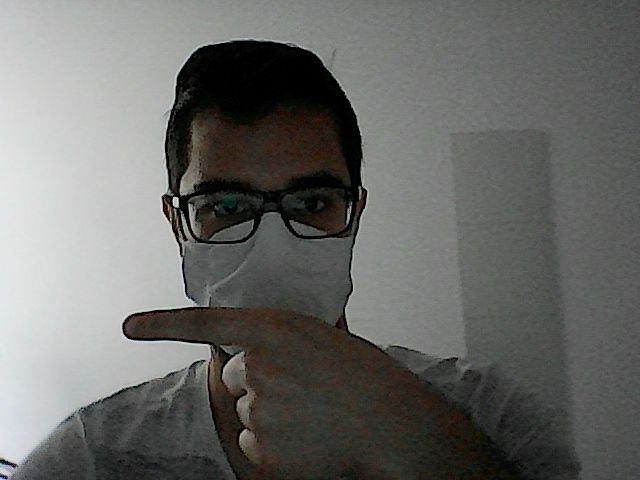right: (118, 302, 385, 480)
